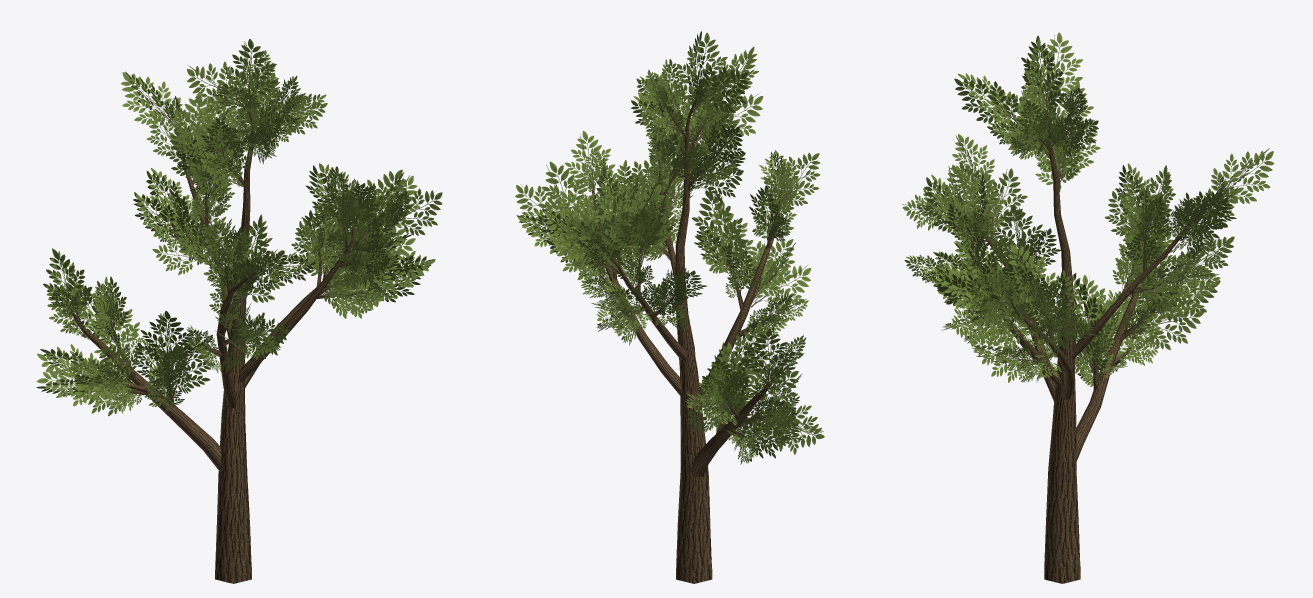
Rendered from Tree1.gltf.
3 renders of one model, left to right at view 1: azimuth 30°, elevation 25°; view 2: azimuth 150°, elevation 25°; view 3: azimuth 270°, elevation 25°, orthographic.
Visible parts, largest first — view 1: leaves.001, trunk.001; view 2: leaves.001, trunk.001; view 3: leaves.001, trunk.001.
Boxes of the visible parts, bbox=[...] form: leaves.001: bbox=[36, 39, 442, 416]; trunk.001: bbox=[71, 96, 389, 583]; leaves.001: bbox=[515, 31, 824, 464]; trunk.001: bbox=[591, 97, 779, 583]; leaves.001: bbox=[902, 32, 1274, 386]; trunk.001: bbox=[961, 102, 1205, 583].
Size of the model in its own units: 82.75 by 117 by 81.18.
2 materials, 2 textured.
